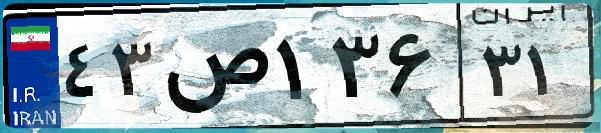1: (270, 28, 330, 110), (525, 38, 570, 115)
3: (330, 28, 385, 110), (475, 38, 525, 113), (110, 28, 158, 98)
4: (57, 26, 110, 100)
6: (385, 28, 445, 110)
ص: (158, 20, 270, 120)
